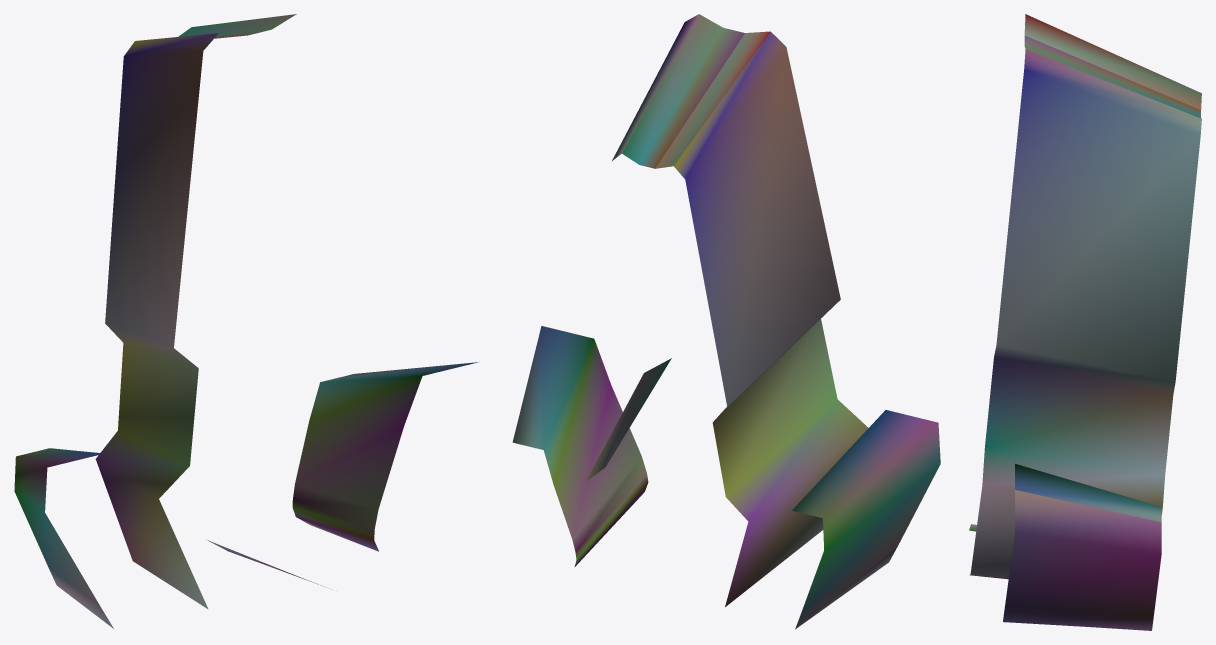
Rendered from ASE_FX_VehiclePad_PylonLight.gltf.
3 renders of one model, left to right at view 1: azimuth 30°, elevation 25°; view 2: azimuth 150°, elevation 25°; view 3: azimuth 270°, elevation 25°, orthographic. The views are drawn at different scales.
Parts seen in each view (by area): view 1: ASE_FX_VehiclePad_PylonLight; view 2: ASE_FX_VehiclePad_PylonLight; view 3: ASE_FX_VehiclePad_PylonLight.
Boxes of the visible parts, x1=… form: ASE_FX_VehiclePad_PylonLight: x1=14, y1=14, x2=478, y2=628; ASE_FX_VehiclePad_PylonLight: x1=512, y1=14, x2=940, y2=629; ASE_FX_VehiclePad_PylonLight: x1=969, y1=14, x2=1201, y2=630.
Size of the model in its own units: 2.02 by 2.59 by 1.
